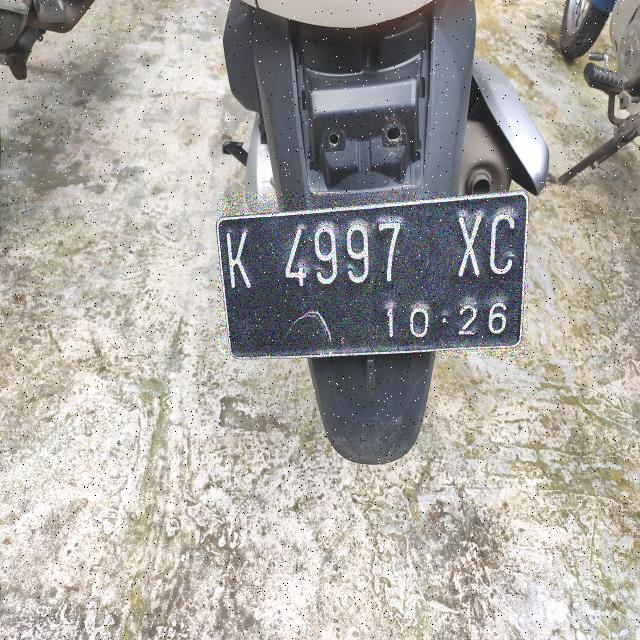plate: (218, 192, 527, 357)
